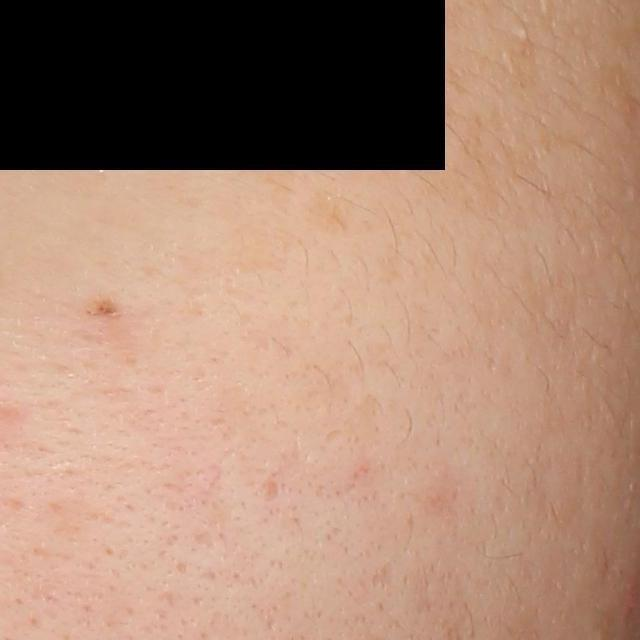atrophic_scar: (255, 479, 282, 504)
nevus: (82, 295, 123, 322)
